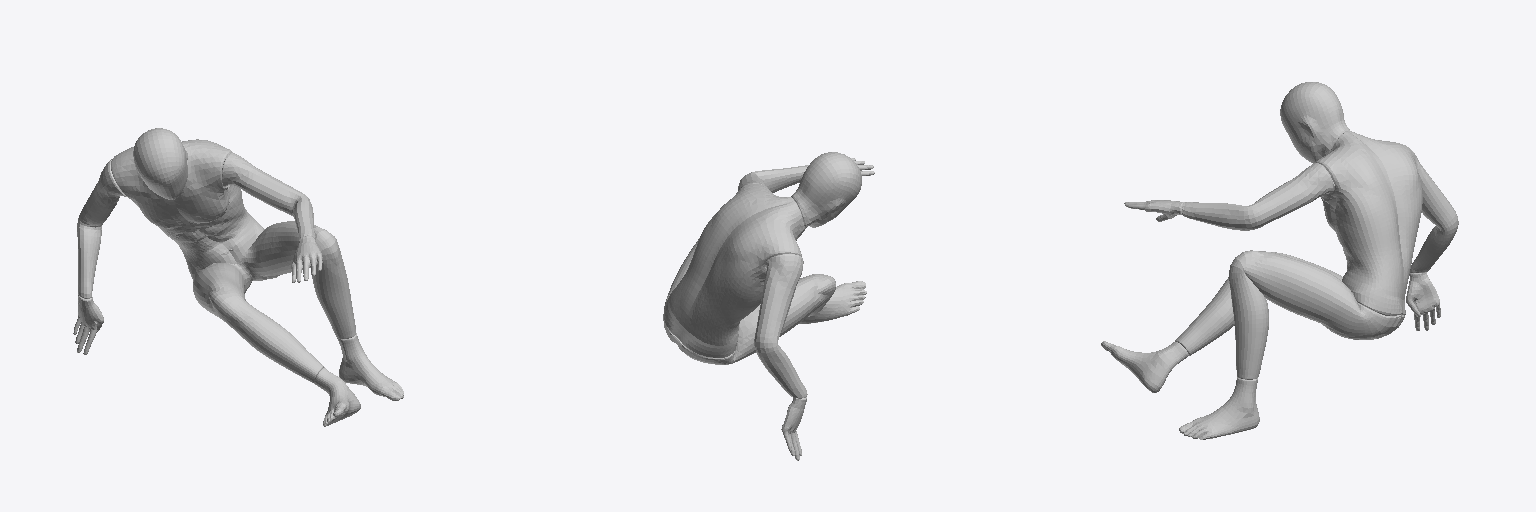
File: standup50.obj
3 views of the same model, side by side, from view 1: azimuth 30°, elevation 25°; view 2: azimuth 150°, elevation 25°; view 3: azimuth 270°, elevation 25° (orthographic).
Visible parts, largest first — view 1: Ch36; view 2: Ch36; view 3: Ch36.
Part boxes in pixels (left/top/right/bottom): Ch36: left=73, top=128, right=403, bottom=426; Ch36: left=663, top=152, right=874, bottom=460; Ch36: left=1101, top=82, right=1458, bottom=439.
Size of the model in its own units: 0.7705 by 0.9078 by 1.11.